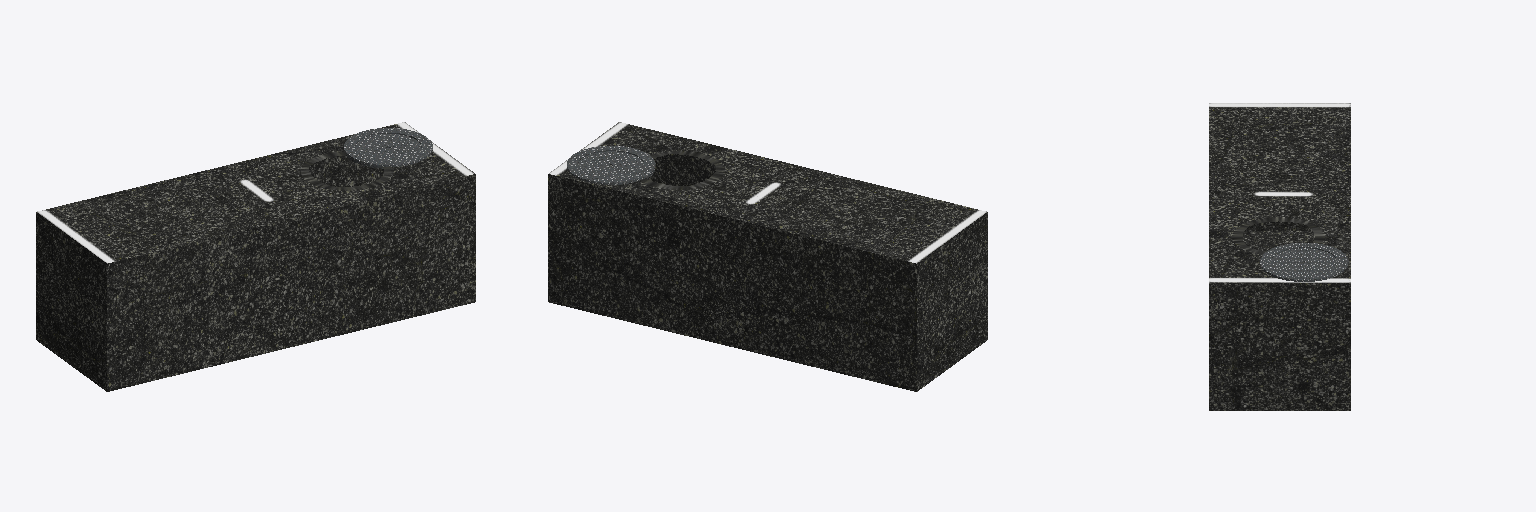
3 views of the same model, side by side, from view 1: azimuth 30°, elevation 25°; view 2: azimuth 150°, elevation 25°; view 3: azimuth 270°, elevation 25° (orthographic).
Visible parts, largest first — view 1: Cube.002_Cube.003; view 2: Cube.002_Cube.003; view 3: Cube.002_Cube.003.
Part boxes in pixels (x1,y1,x2,y2): Cube.002_Cube.003: (36,122,475,391); Cube.002_Cube.003: (548,122,987,391); Cube.002_Cube.003: (1209,103,1350,410).
Bounding box in the file's own units: 3 × 1.02 × 1.
Materials: 1 (1 with a texture image).